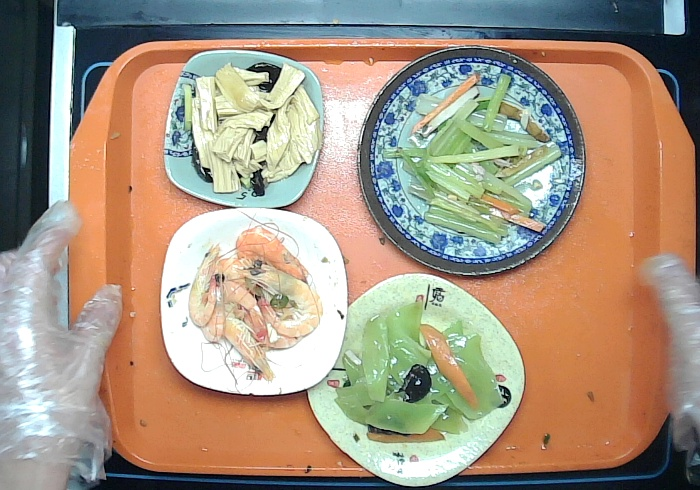NLDX-Bai_Se_Xiao_Fang_Die: (159, 206, 349, 396)
NLDX-Fu_Zi_Fang_Die: (307, 272, 525, 489)
NLDX-Qing_Hua_Xiao_Fang_Die: (162, 50, 326, 206)
NLDX-Qing_Hua_Yuan_Die: (356, 44, 587, 277)
